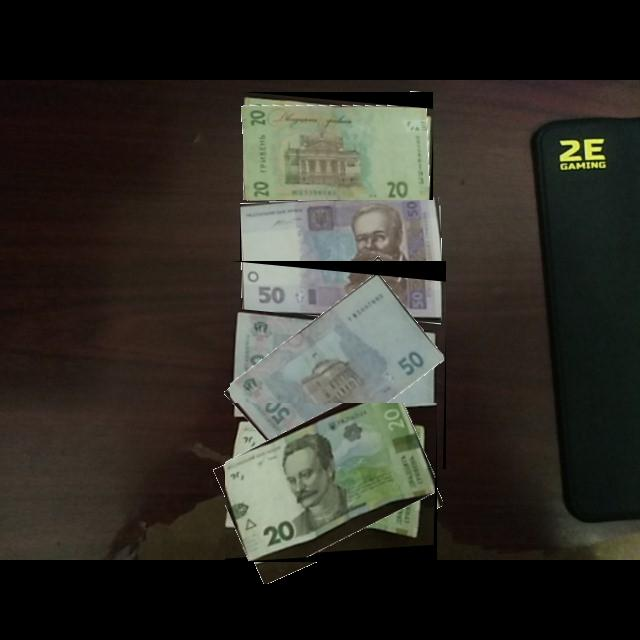20uah: (225, 403, 436, 562), (243, 106, 432, 201)
50uah: (230, 273, 446, 470), (241, 197, 442, 310)
